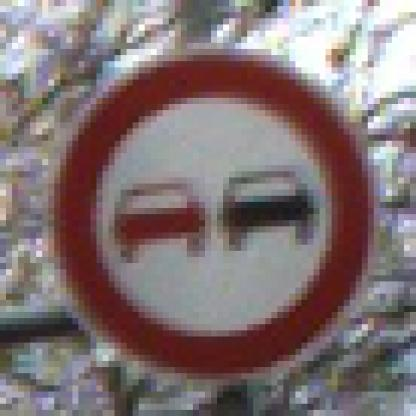No Overtaking: (43, 44, 381, 380)
